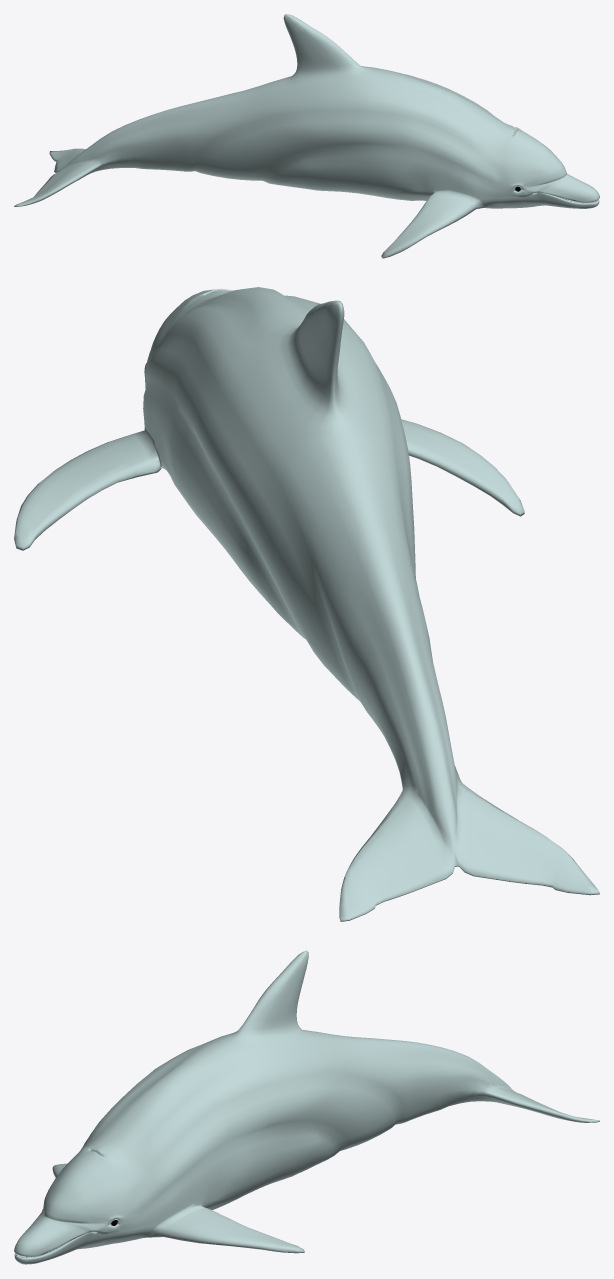
The model's file is dolphin_000017.obj.
3 renders of one model, top to bottom at view 1: azimuth 30°, elevation 25°; view 2: azimuth 150°, elevation 25°; view 3: azimuth 270°, elevation 25°, orthographic. The views are drawn at different scales.
Visible parts, largest first — view 1: Dolphin; view 2: Dolphin; view 3: Dolphin.
Part boxes in pixels (left/top/right/bottom): Dolphin: left=14, top=14, right=599, bottom=258; Dolphin: left=14, top=287, right=599, bottom=921; Dolphin: left=14, top=950, right=599, bottom=1264.
Bounding box in the file's own units: 5.52 × 2.58 × 5.6.
